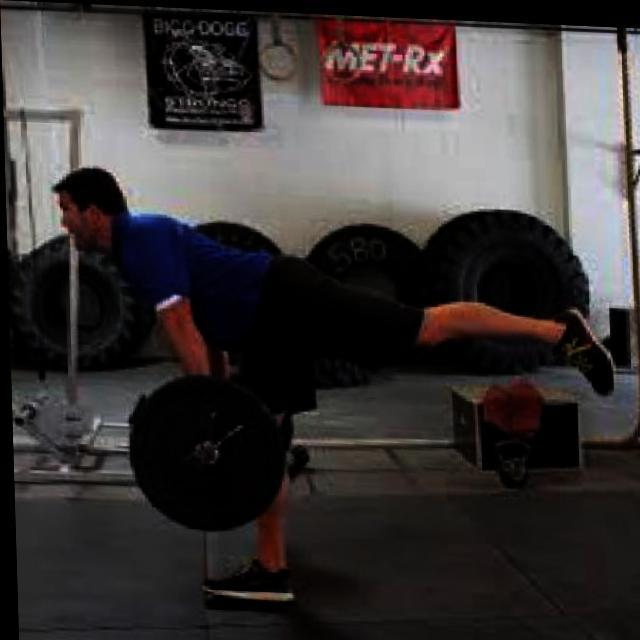barbell: (125, 367, 288, 539)
